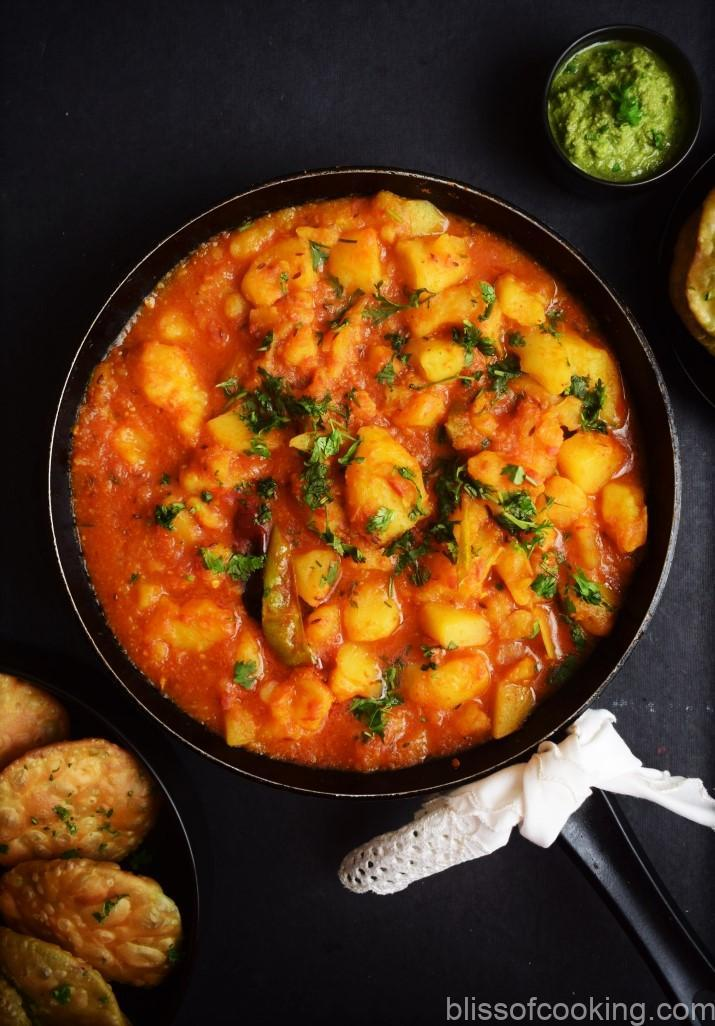aloo sabji: (108, 251, 601, 742)
